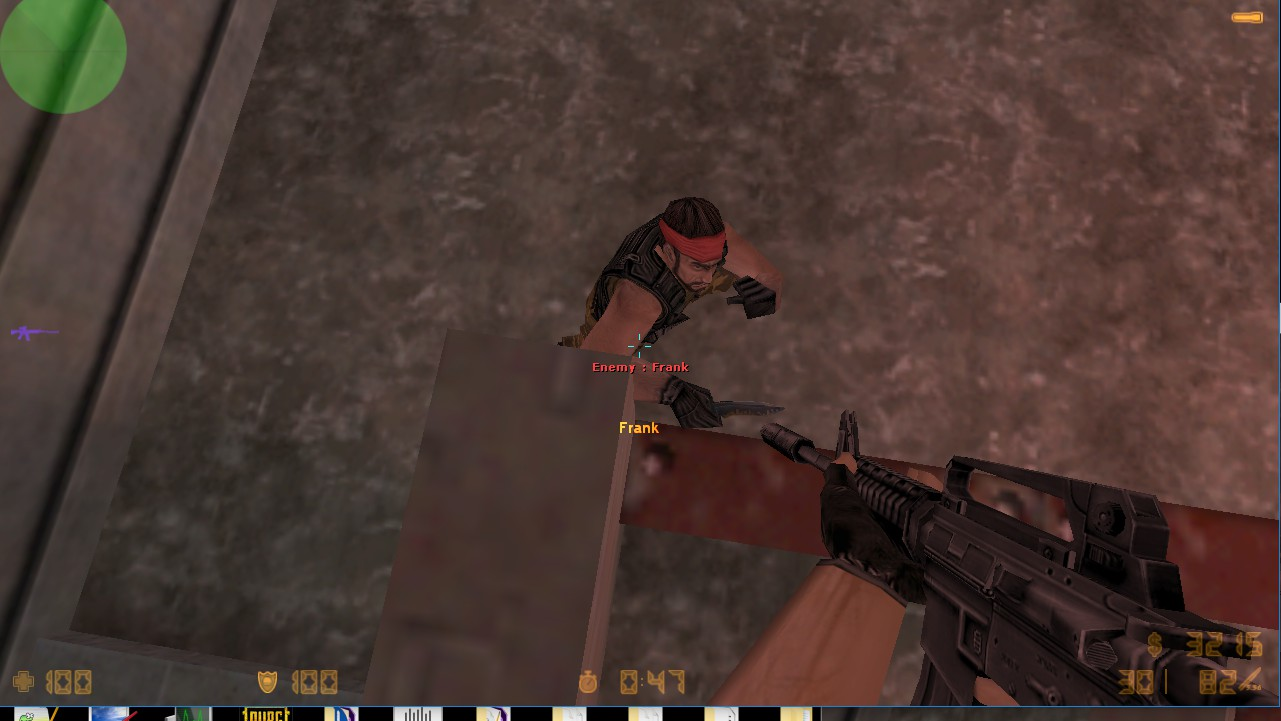person: (557, 177, 787, 429)
